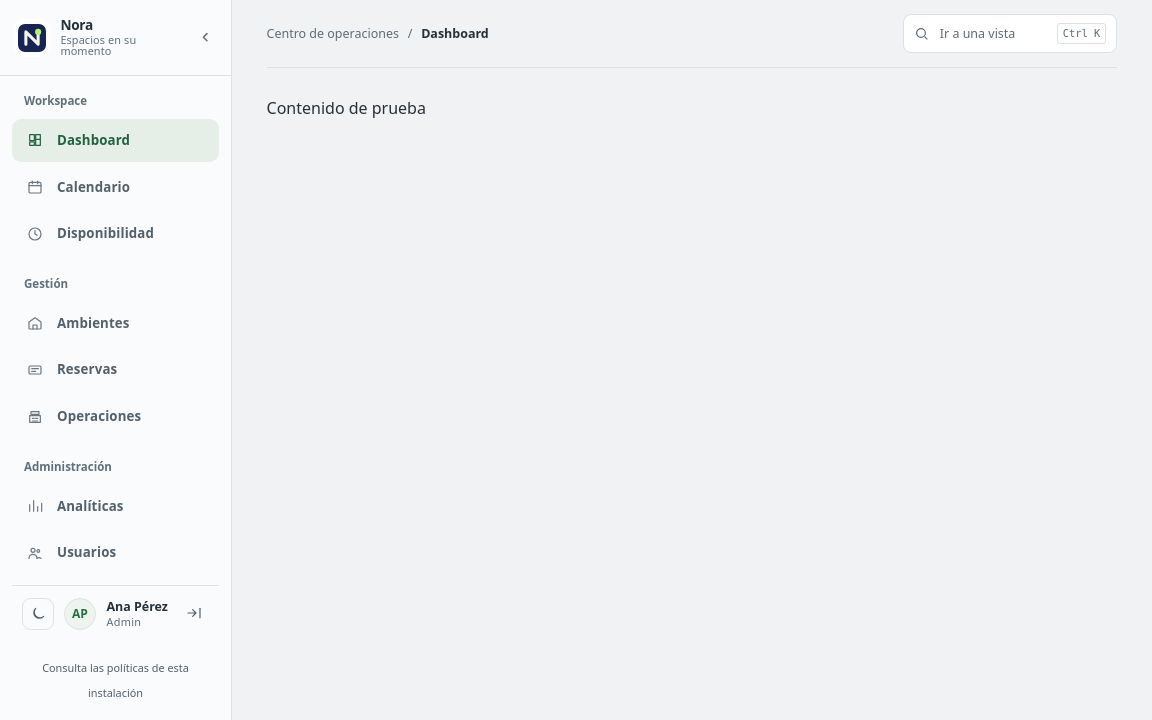
MainLayout › abre navegación por teclado y navega al único resultado sin distinguir acentos
Press k
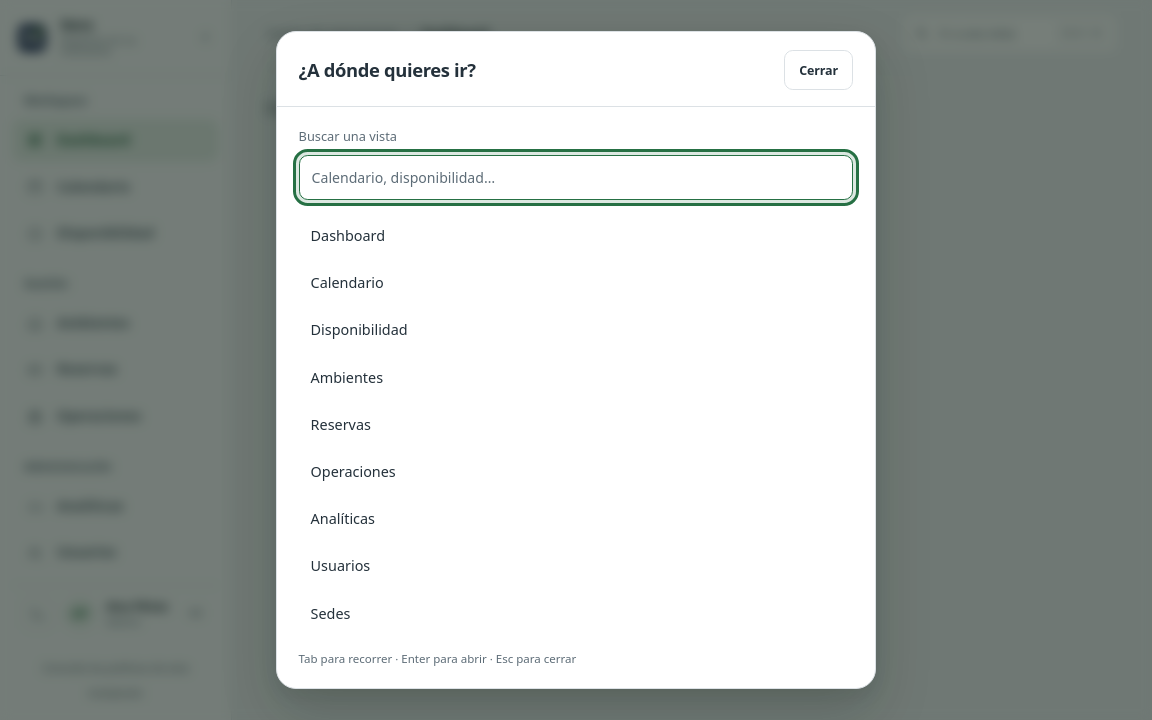
Press Escape in the search field, box [299, 155, 853, 200]
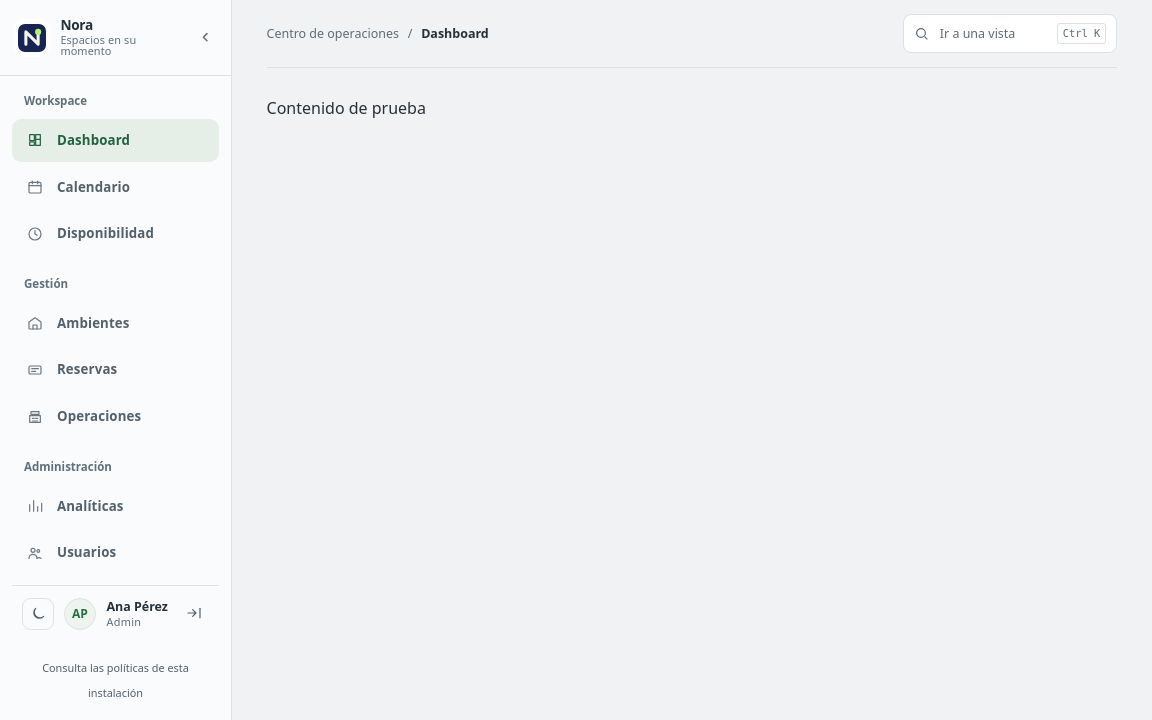
Check: the dialog is gone
Press k
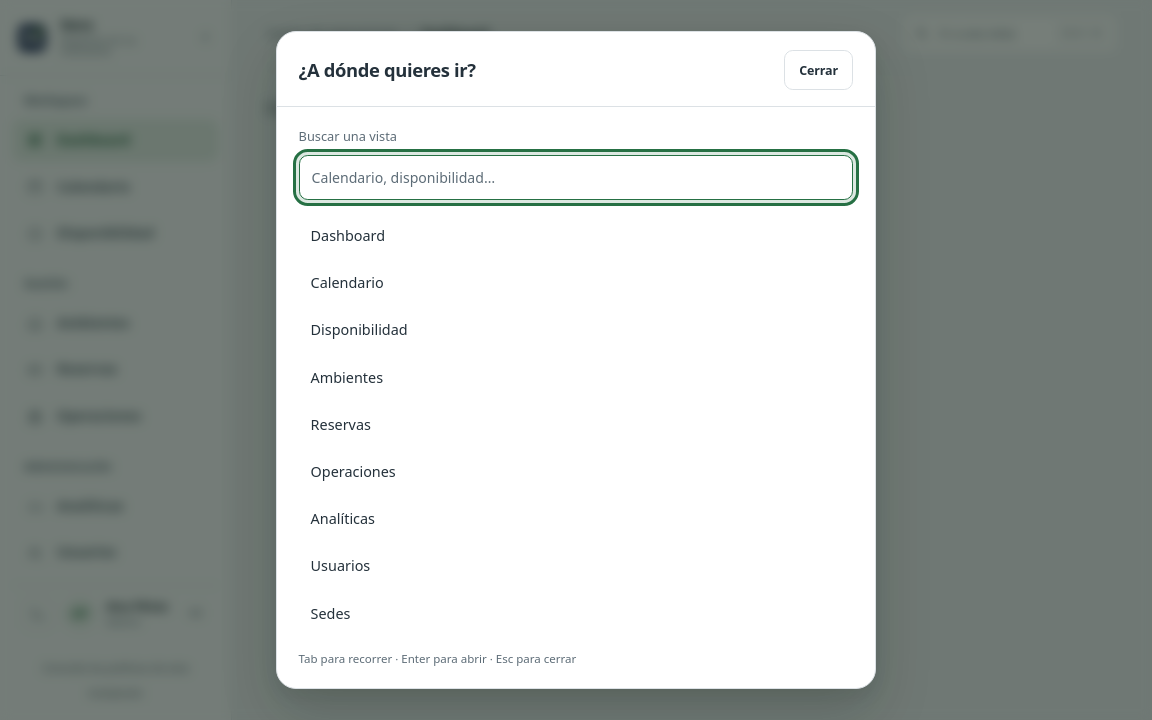
Type "analiticas" into the search field at point(576, 178), box [299, 155, 853, 200]
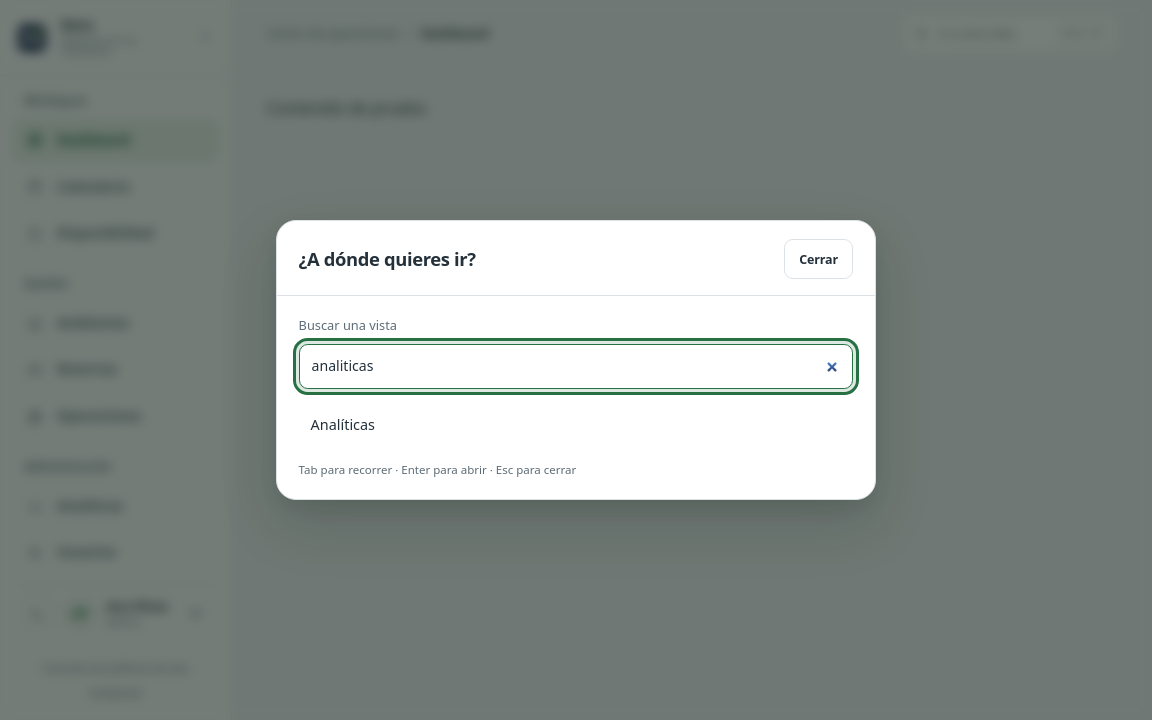
Press Enter in the search field, box [299, 344, 853, 389]
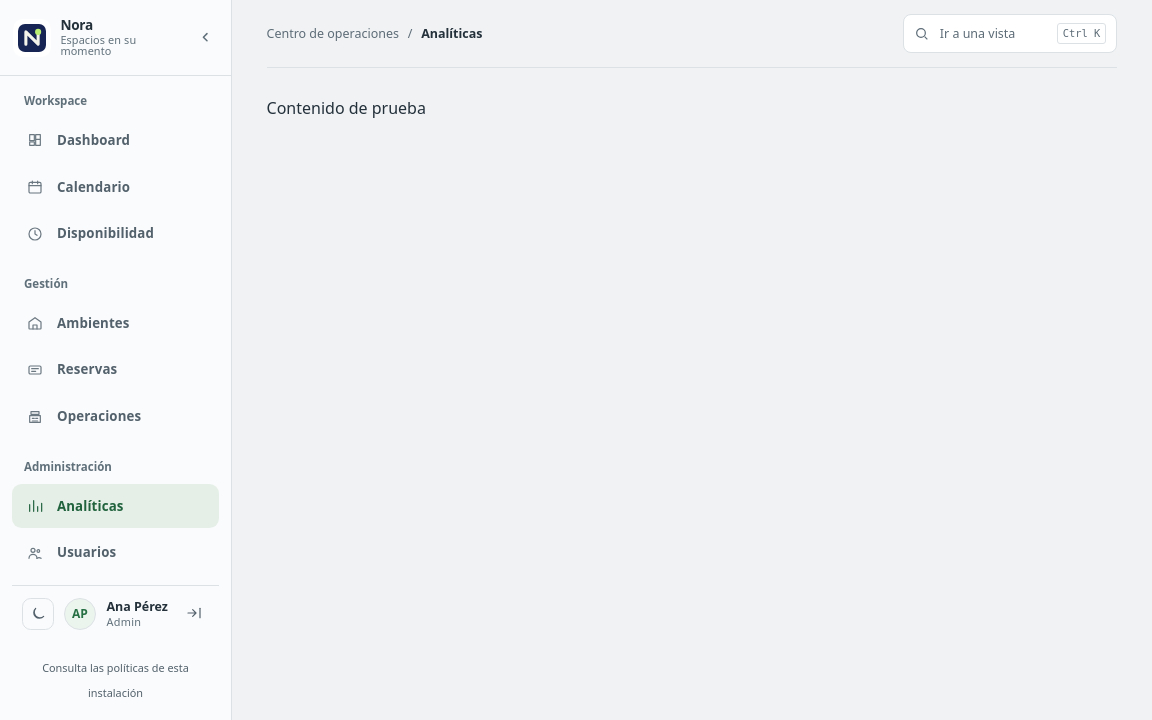
Check: the dialog is gone
Check: the text "Analíticas" next to "Centro de operaciones" is shown, box [421, 25, 482, 42]
